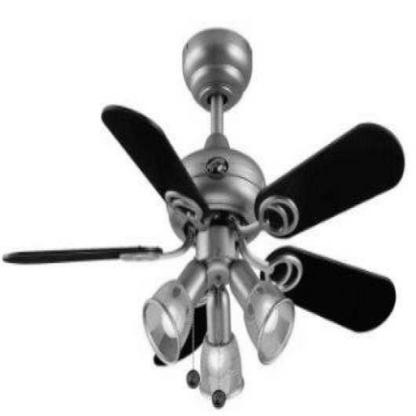ceiling-fan: (2, 26, 406, 406)
